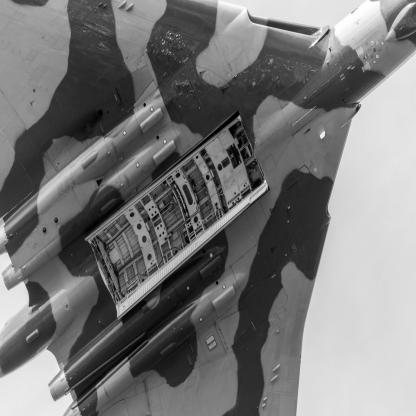Vulcan: (1, 1, 416, 416)
